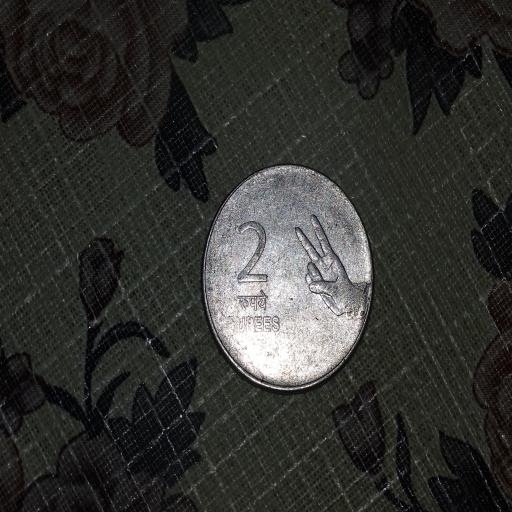rupee2: (198, 171, 371, 400)
